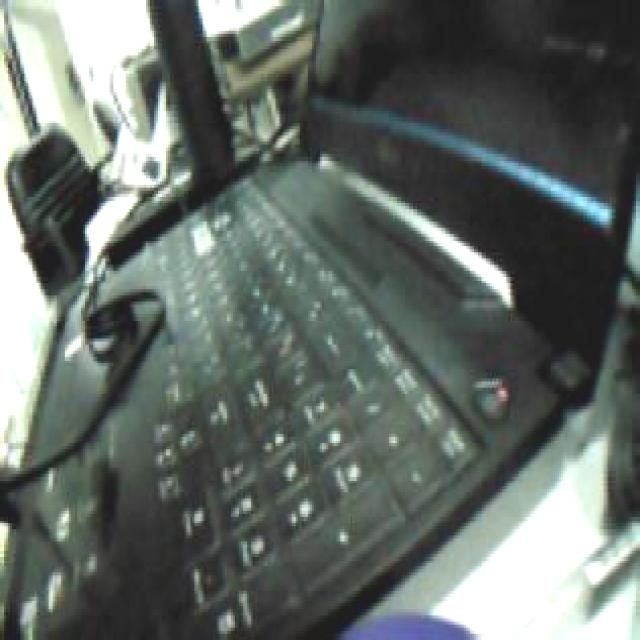BallPurple: (334, 612, 478, 640)
